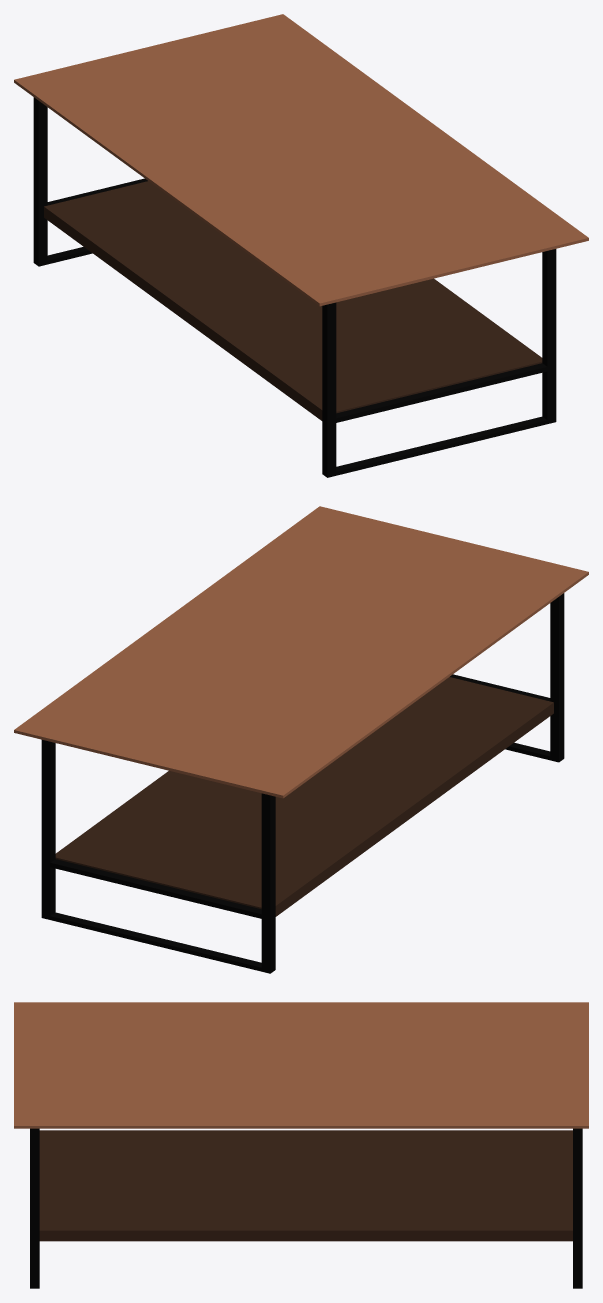
The model's file is Modern table.fbx.
The picture shows the model from 3 angles, top to bottom: view 1: azimuth 30°, elevation 25°; view 2: azimuth 150°, elevation 25°; view 3: azimuth 270°, elevation 25°; orthographic projection. The views are drawn at different scales.
Visible parts, largest first — view 1: Cube; view 2: Cube; view 3: Cube.
Part boxes in pixels (box(x1,y1,x2,y2)): Cube: box(14, 14, 588, 477); Cube: box(14, 506, 588, 973); Cube: box(14, 1002, 588, 1288).
Bounding box in the file's own units: 108 × 70.6 × 212.
